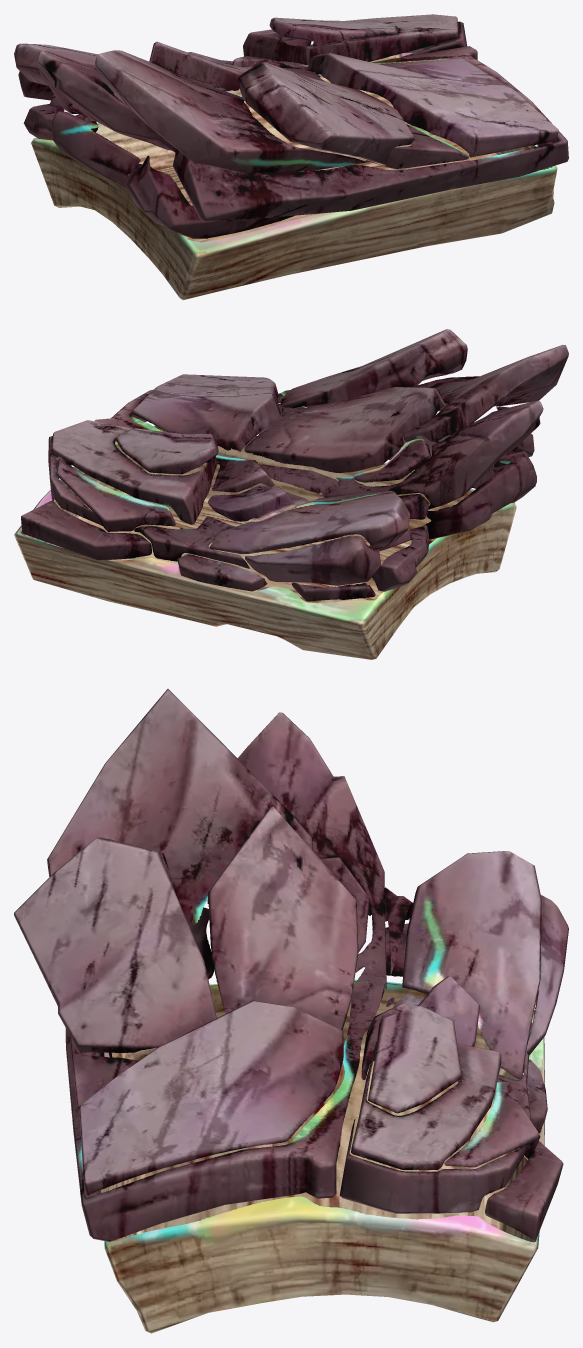
3 renders of one model, top to bottom at view 1: azimuth 30°, elevation 25°; view 2: azimuth 150°, elevation 25°; view 3: azimuth 270°, elevation 25°, orthographic. The views are drawn at different scales.
Parts seen in each view (by area): view 1: SM_Anima_Infused_Bark_01_LOD0; view 2: SM_Anima_Infused_Bark_01_LOD0; view 3: SM_Anima_Infused_Bark_01_LOD0.
Part boxes in pixels (box(x1,y1,x2,y2)): SM_Anima_Infused_Bark_01_LOD0: box(14, 14, 568, 300); SM_Anima_Infused_Bark_01_LOD0: box(14, 329, 568, 659); SM_Anima_Infused_Bark_01_LOD0: box(14, 689, 568, 1333).
Size of the model in its own units: 0.5234 by 0.2819 by 0.3966.
1 material, 1 textured.
